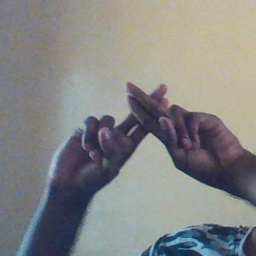F: (89, 68, 210, 168)
